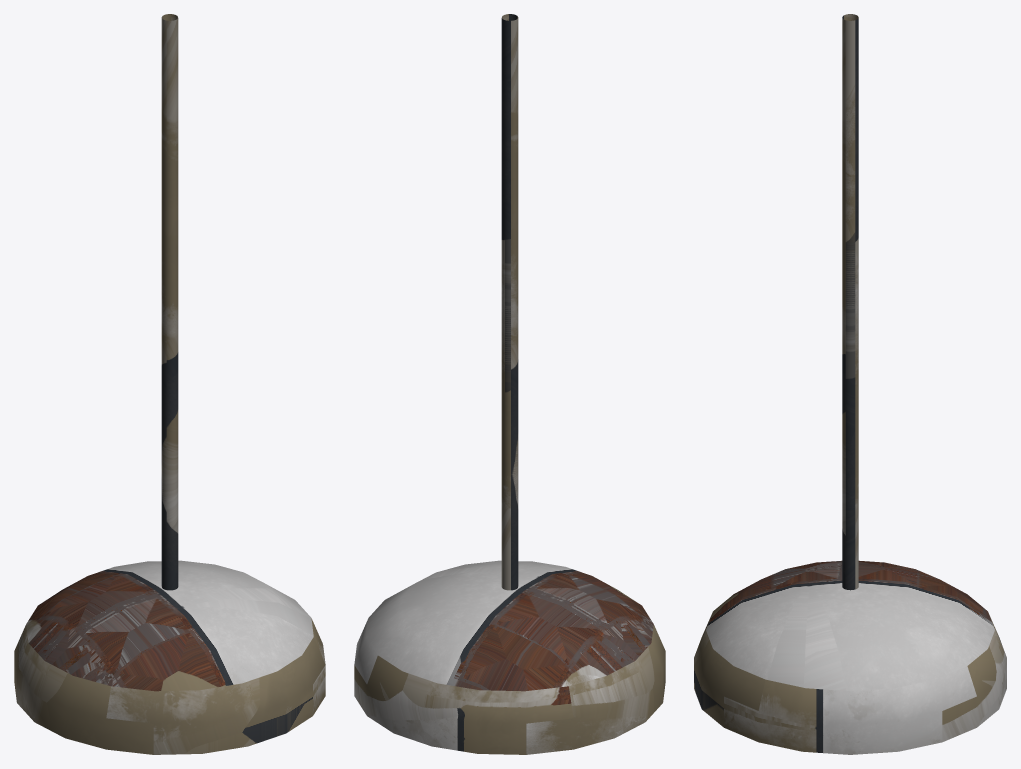
The model's file is SpotlightTexture.gltf.
3 renders of one model, left to right at view 1: azimuth 30°, elevation 25°; view 2: azimuth 150°, elevation 25°; view 3: azimuth 270°, elevation 25°, orthographic.
Parts seen in each view (by area): view 1: SM_SpotLight; view 2: SM_SpotLight; view 3: SM_SpotLight.
Part boxes in pixels (x1,y1,x2,y2): SM_SpotLight: (14,14,325,754); SM_SpotLight: (354,14,665,754); SM_SpotLight: (694,14,1006,754).
Bounding box in the file's own units: 0.3811 × 0.9024 × 0.3811.
